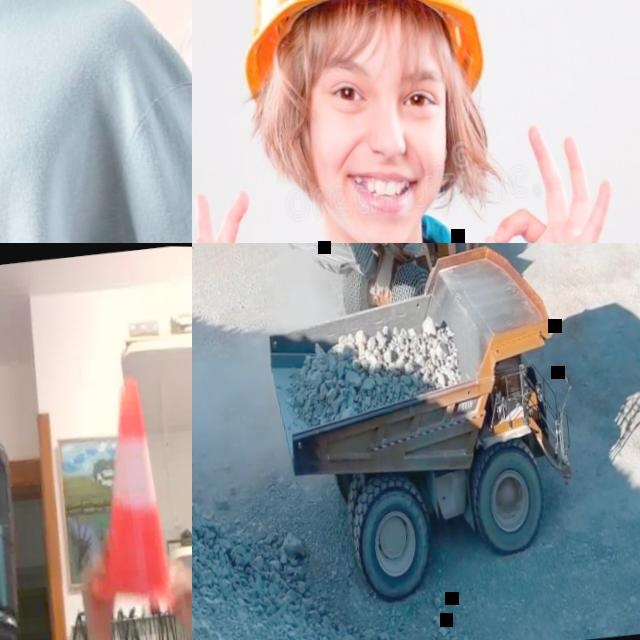Hardhat: (222, 0, 492, 110)
NO-Mask: (320, 149, 448, 243)
NO-Safety Vest: (0, 0, 126, 243)
Person: (192, 0, 640, 243), (0, 0, 192, 243), (131, 0, 192, 243)
Safety Cone: (62, 359, 192, 624)
machinery: (252, 243, 596, 618), (252, 243, 498, 346)
